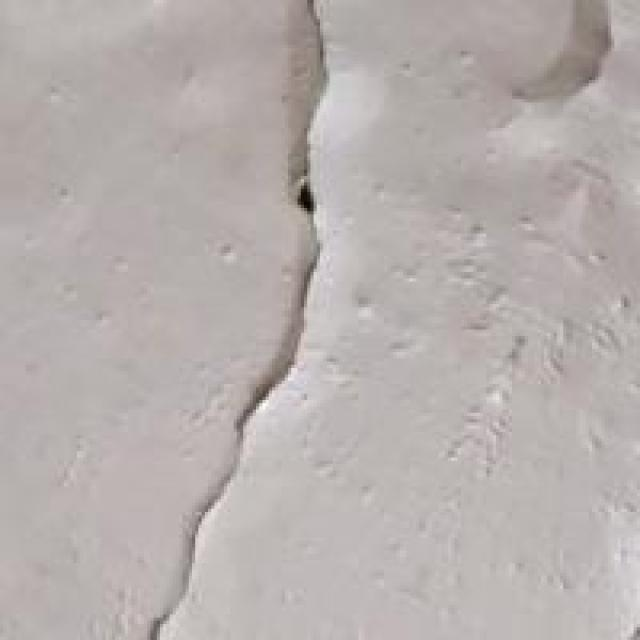crack: (138, 0, 392, 640)
